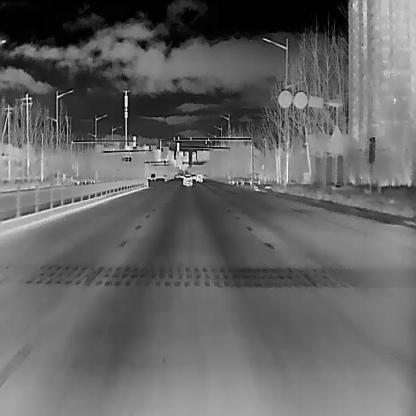car: (181, 173, 192, 186), (196, 173, 202, 182), (150, 172, 156, 180), (191, 172, 196, 178)
